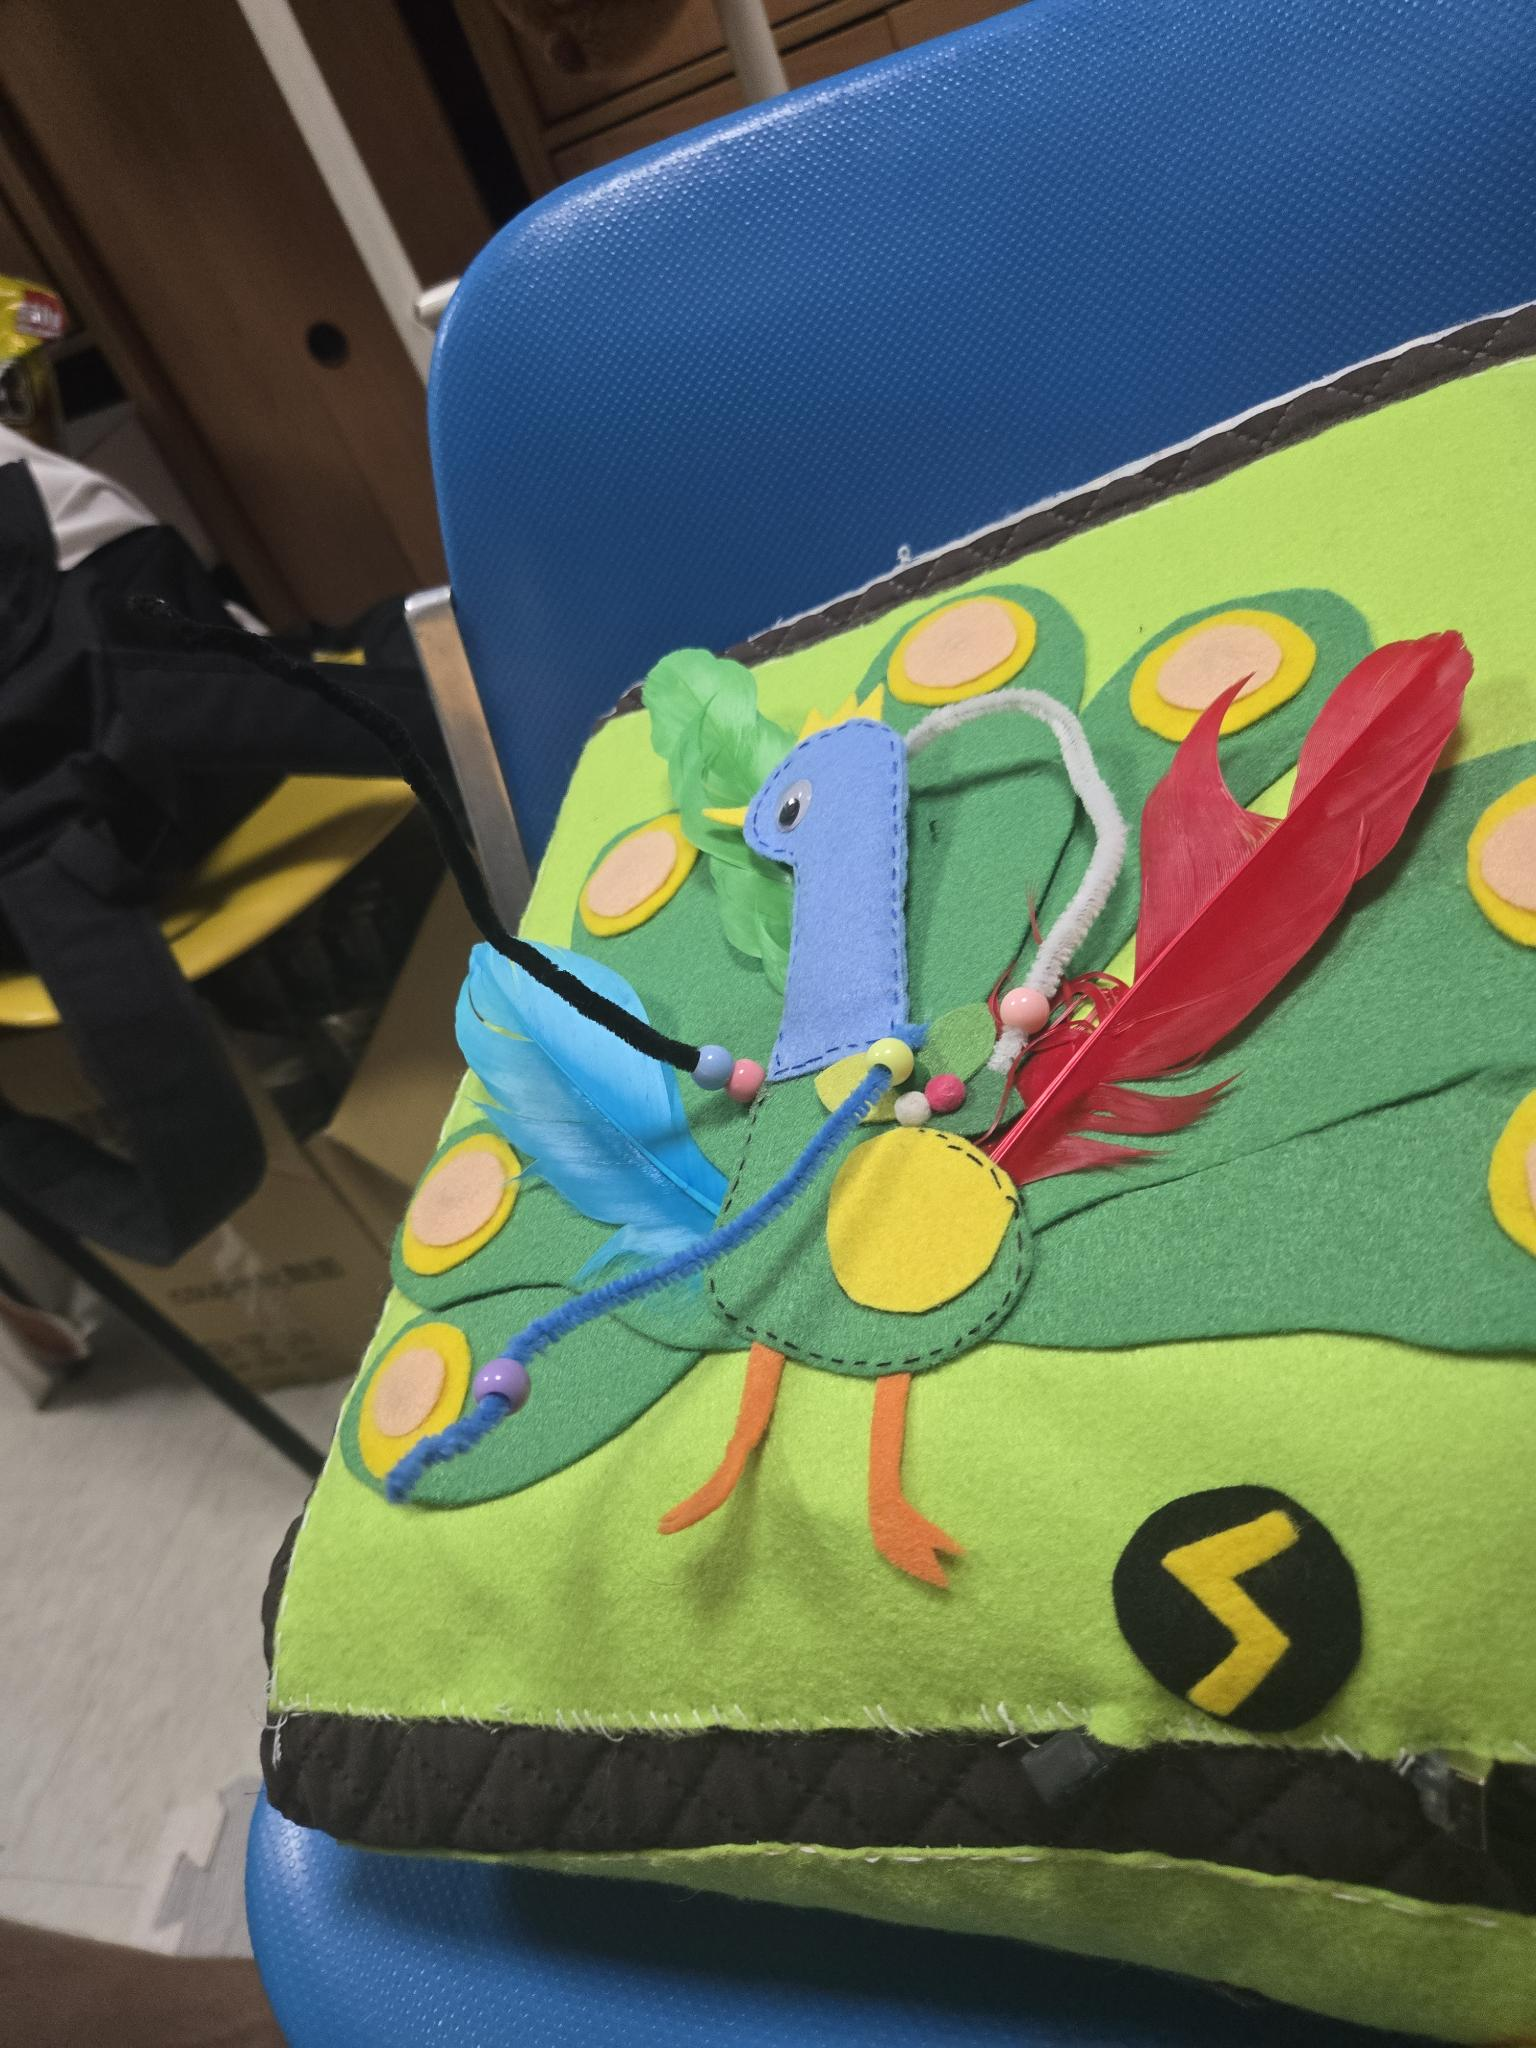bead: (445, 1327, 563, 1451), (983, 959, 1075, 1068), (841, 1005, 915, 1100), (686, 995, 736, 1103), (728, 1035, 773, 1121)
